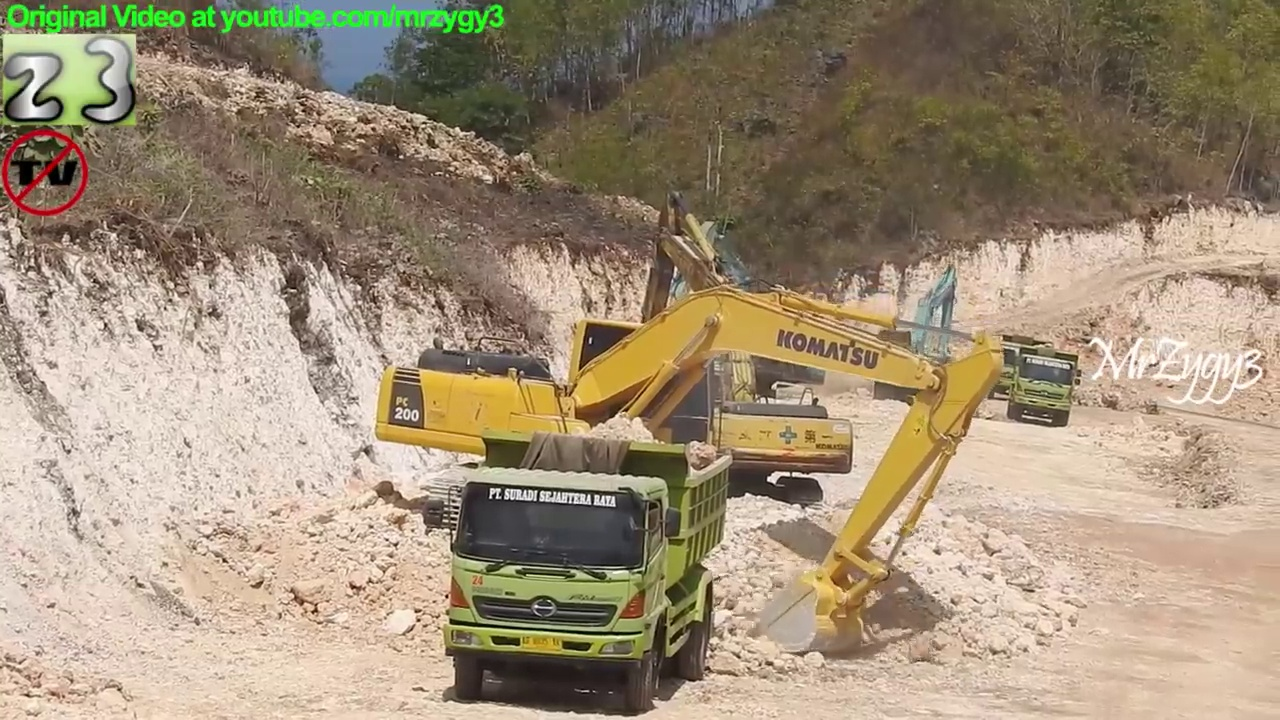excavator: (372, 283, 1009, 661), (613, 190, 860, 513), (643, 216, 833, 426), (869, 262, 975, 405)
truck: (423, 426, 737, 717), (999, 340, 1089, 433), (981, 328, 1060, 410)
